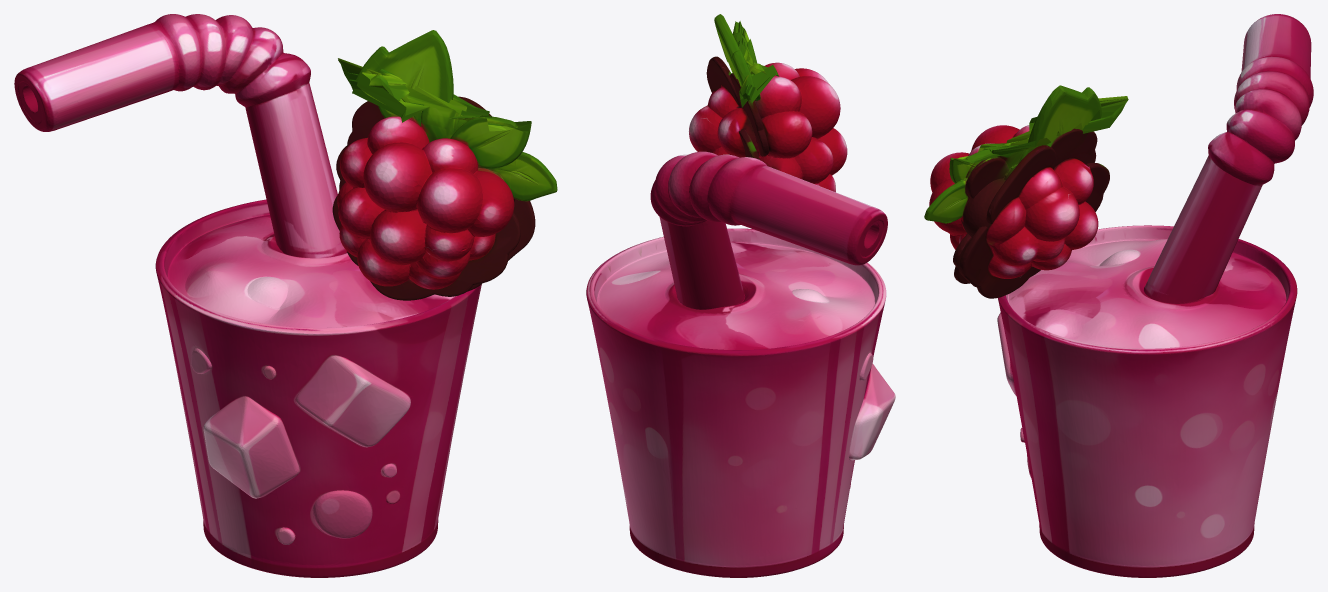
The model's file is Web_Smoothie_Raspberry.obj.
The picture shows the model from 3 angles, left to right: view 1: azimuth 30°, elevation 25°; view 2: azimuth 150°, elevation 25°; view 3: azimuth 270°, elevation 25°; orthographic projection. The views are drawn at different scales.
Parts seen in each view (by area): view 1: Web_Smoothie_Raspberry; view 2: Web_Smoothie_Raspberry; view 3: Web_Smoothie_Raspberry.
Part boxes in pixels (x1,y1,x2,y2): Web_Smoothie_Raspberry: [14, 14, 557, 577]; Web_Smoothie_Raspberry: [586, 14, 895, 577]; Web_Smoothie_Raspberry: [924, 14, 1313, 577].
Bounding box in the file's own units: 0.7757 × 1.05 × 0.7769.
1 material, 1 textured.
